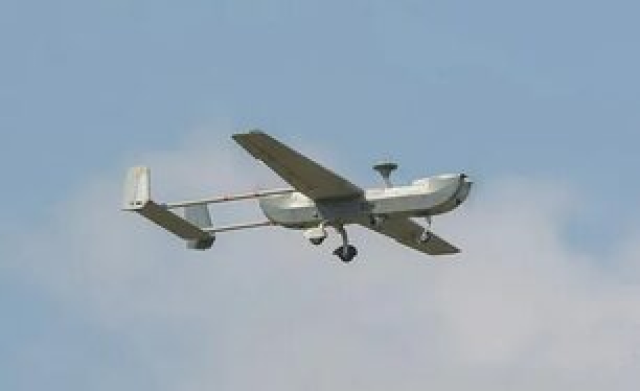military drone: (119, 127, 474, 264)
